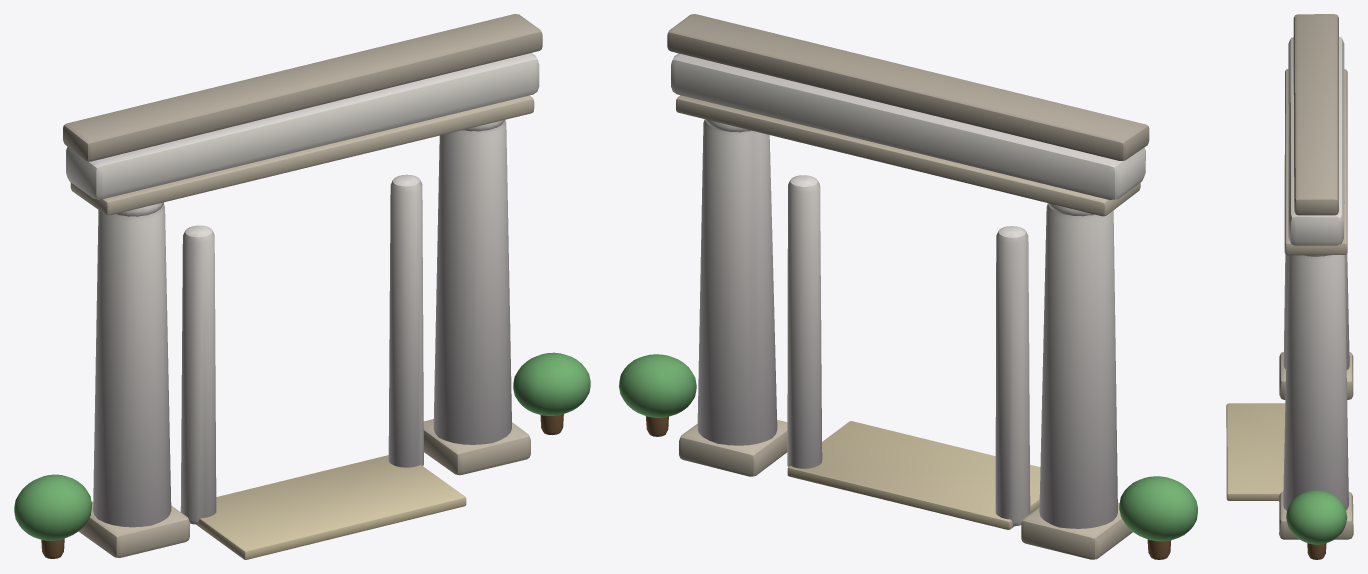
3 views of the same model, side by side, from view 1: azimuth 30°, elevation 25°; view 2: azimuth 150°, elevation 25°; view 3: azimuth 270°, elevation 25° (orthographic). The views are drawn at different scales.
Parts seen in each view (by area): view 1: gate_a6014ecb; view 2: gate_a6014ecb; view 3: gate_a6014ecb.
Boxes of the visible parts, <box> form: gate_a6014ecb: <box>14,14,590,559</box>; gate_a6014ecb: <box>619,14,1197,559</box>; gate_a6014ecb: <box>1226,14,1353,559</box>.
Size of the model in its own units: 6.14 by 4.32 by 1.42.
